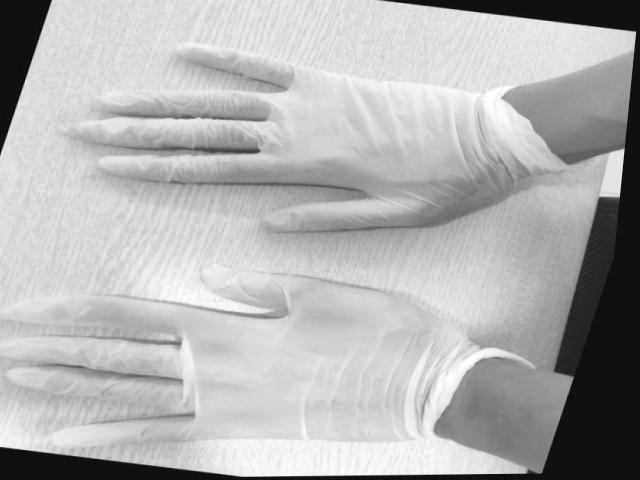gloved: (100, 45, 478, 234), (53, 268, 419, 446)
